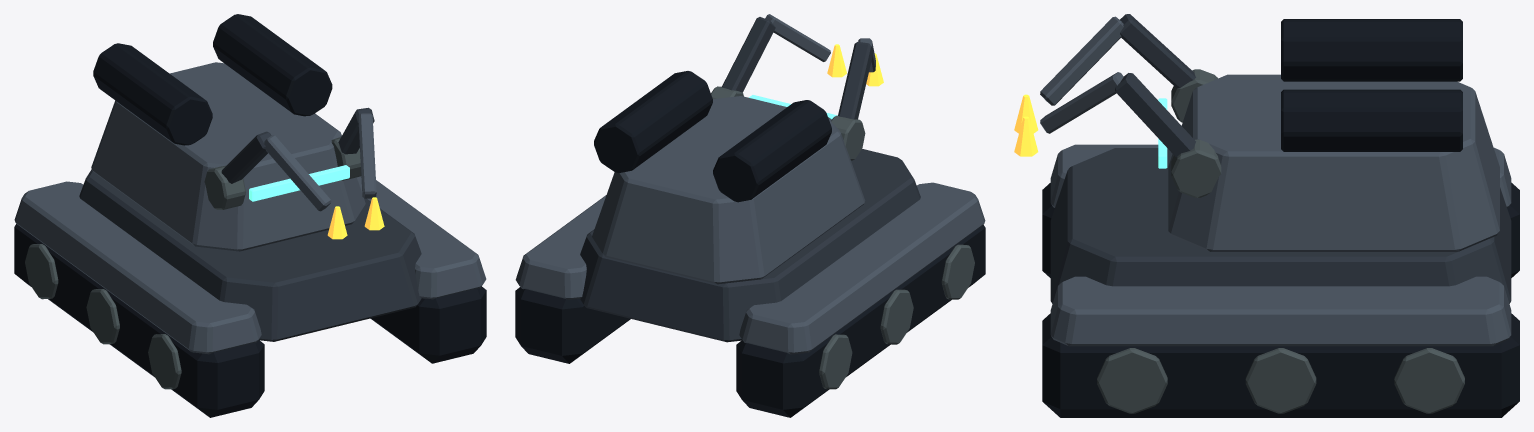
Rendered from m_welder.glb.
The picture shows the model from 3 angles, left to right: view 1: azimuth 30°, elevation 25°; view 2: azimuth 150°, elevation 25°; view 3: azimuth 270°, elevation 25°; orthographic projection. The views are drawn at different scales.
Parts seen in each view (by area): view 1: Welder; view 2: Welder; view 3: Welder.
Part boxes in pixels (x1=…): Welder: x1=14, y1=14, x2=486, y2=417; Welder: x1=515, y1=14, x2=985, y2=417; Welder: x1=1014, y1=14, x2=1519, y2=417.
Bounding box in the file's own units: 2.76 × 2.14 × 3.34.
